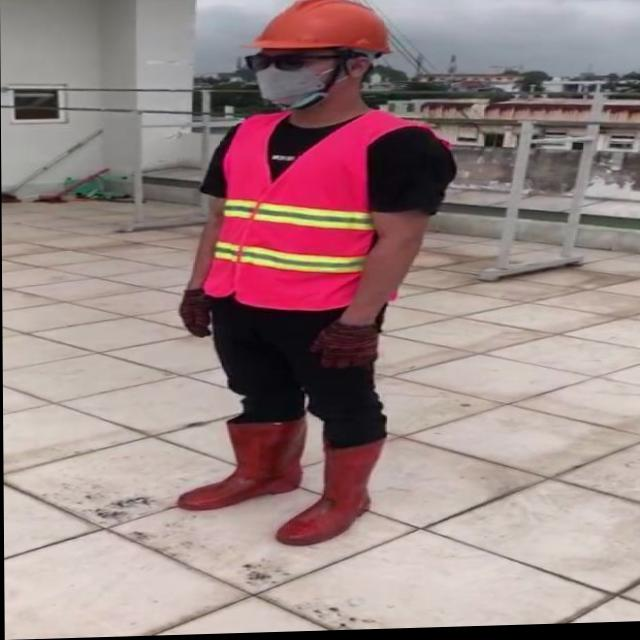Gloves: (308, 319, 379, 372), (179, 288, 212, 339)
Helmet: (241, 0, 393, 61)
Safety-Boot: (177, 412, 309, 512), (275, 436, 386, 548)
Safety-Vest: (199, 106, 452, 318)
